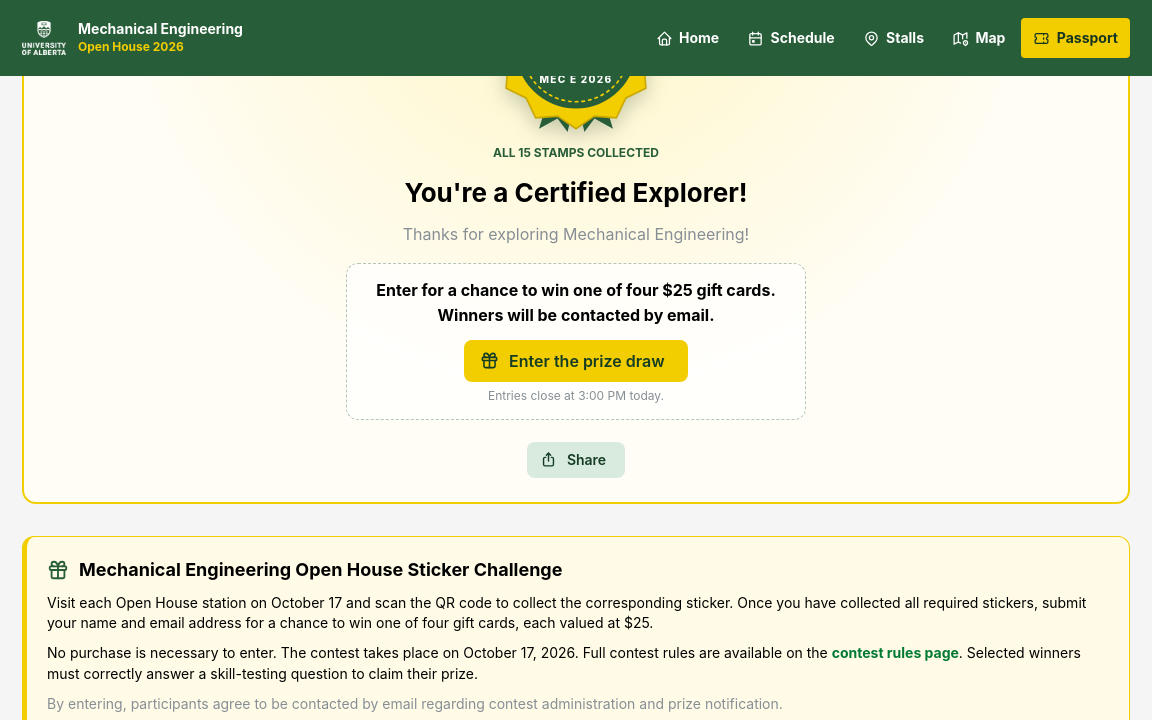
prize draw entry › shows why an entry was refused
(page scrolled)
Click the button "Enter the prize draw" at (576, 361), box x1=464 y1=340 x2=688 y2=382
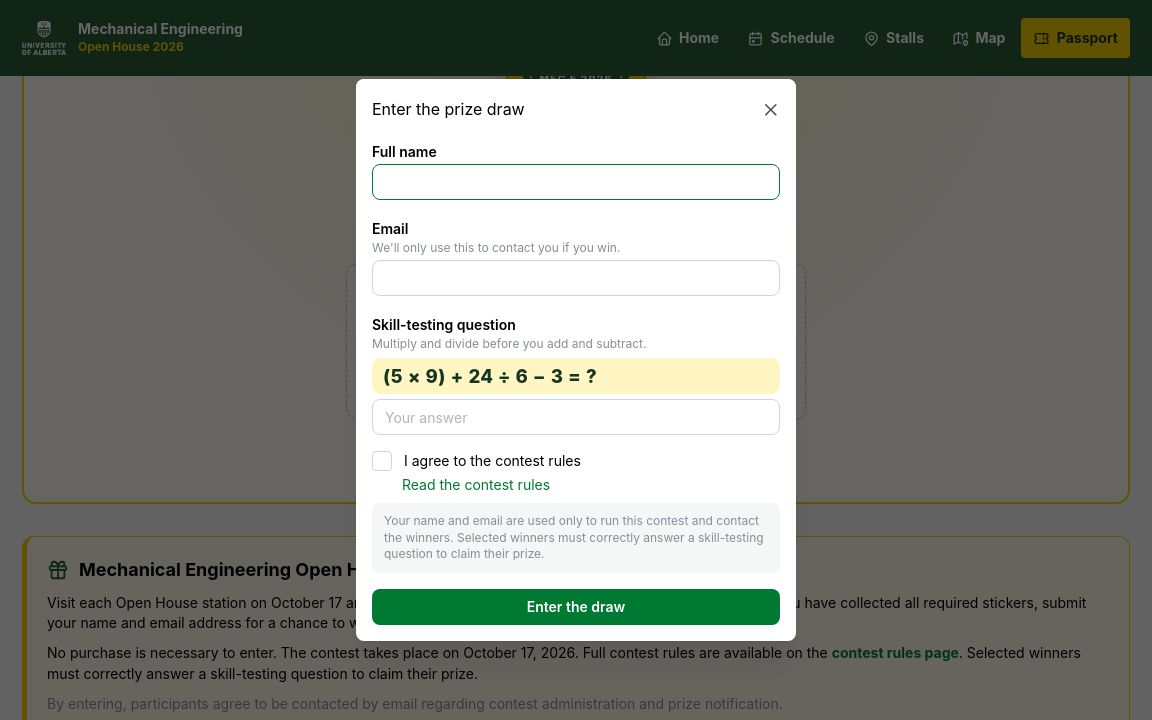
Type "Alex Rivera" into the field labelled "Full name" at (576, 182), box x1=372 y1=164 x2=780 y2=200
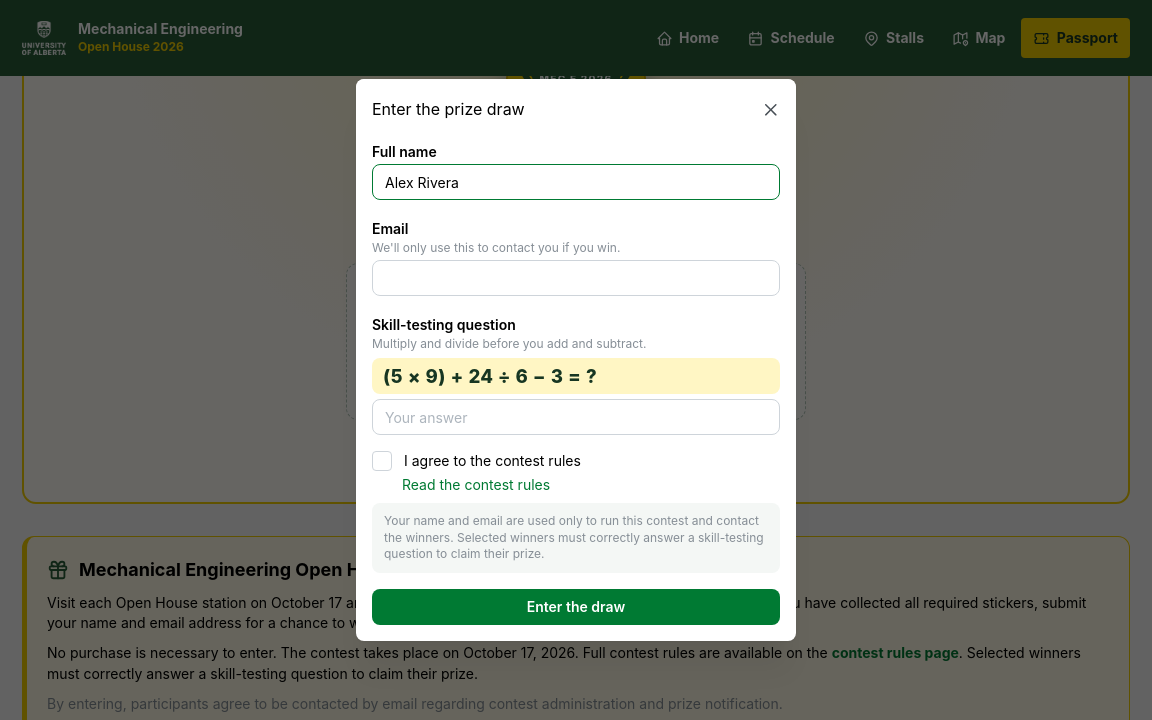
Type "alex@example.com" into the field labelled "Email" at (576, 278), box x1=372 y1=260 x2=780 y2=296
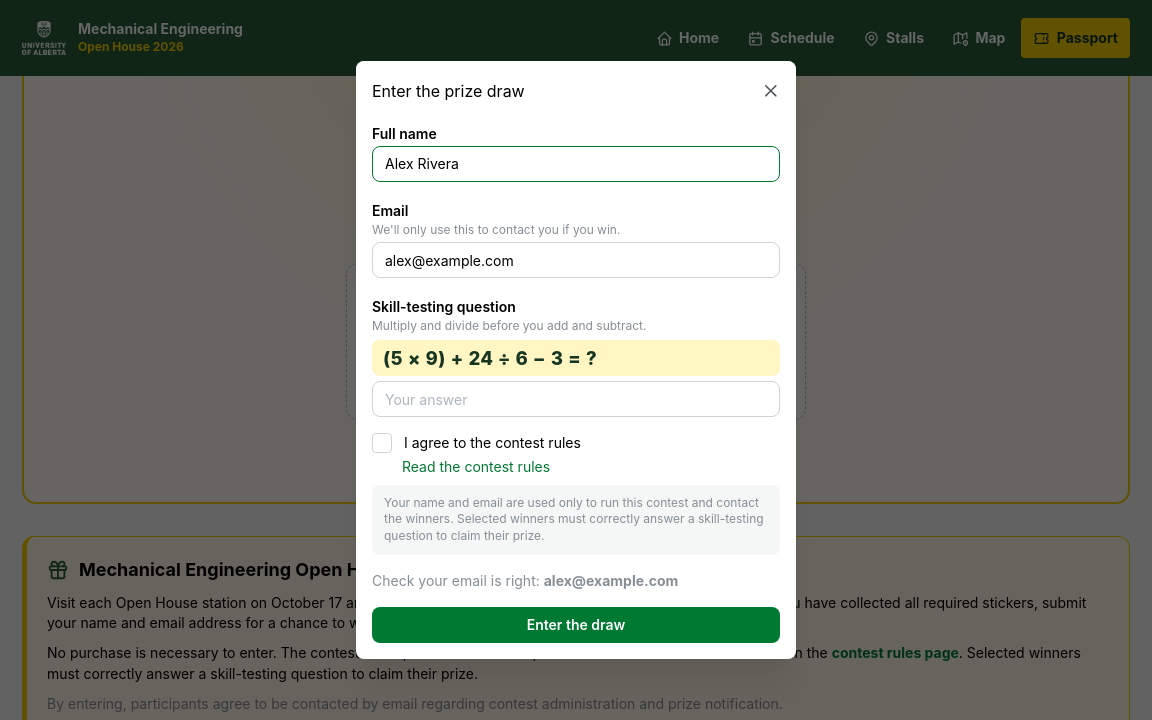
Type "46" into the field labelled "Skill-testing question" at (576, 399), box x1=372 y1=381 x2=780 y2=417
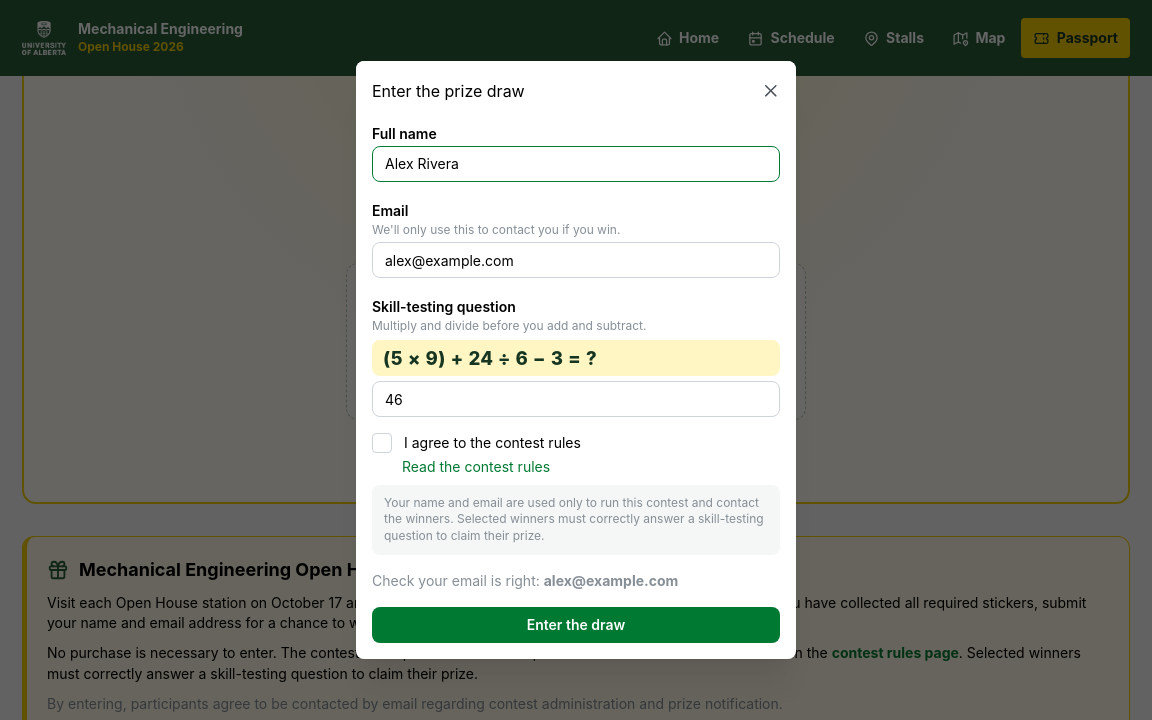
Click the checkbox labelled "I agree to the contest rules" at (382, 443), box x1=372 y1=433 x2=392 y2=453
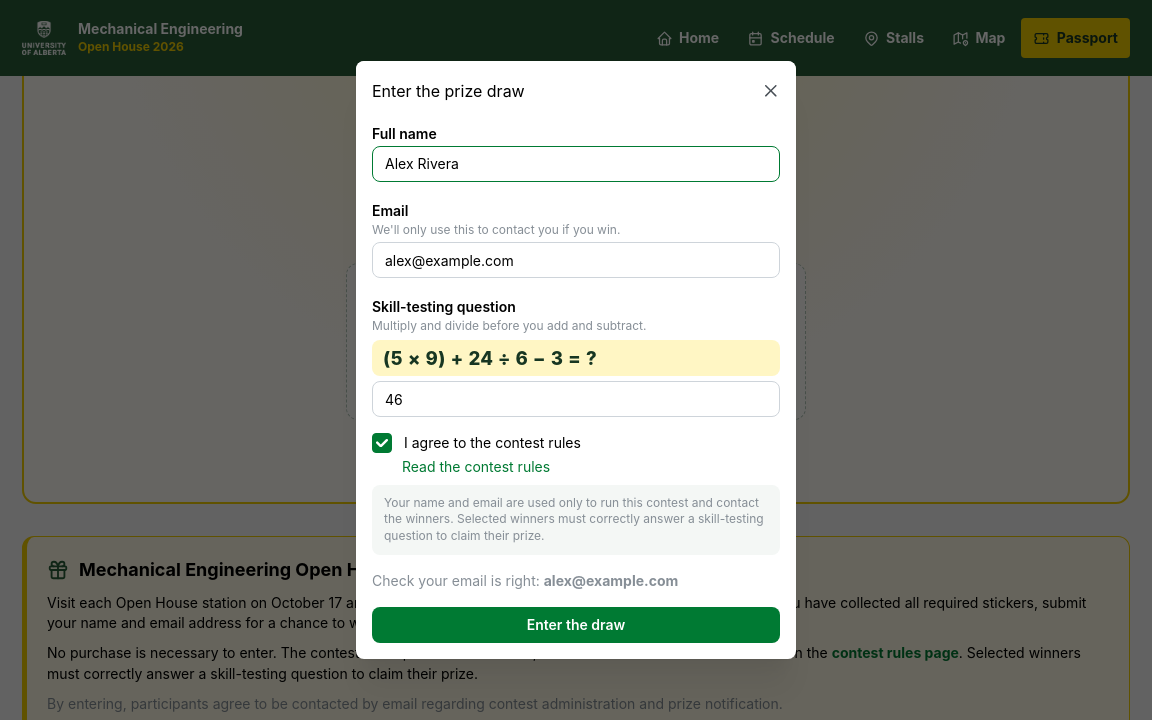
Click the button "Enter the draw" at (576, 625), box x1=372 y1=607 x2=780 y2=643
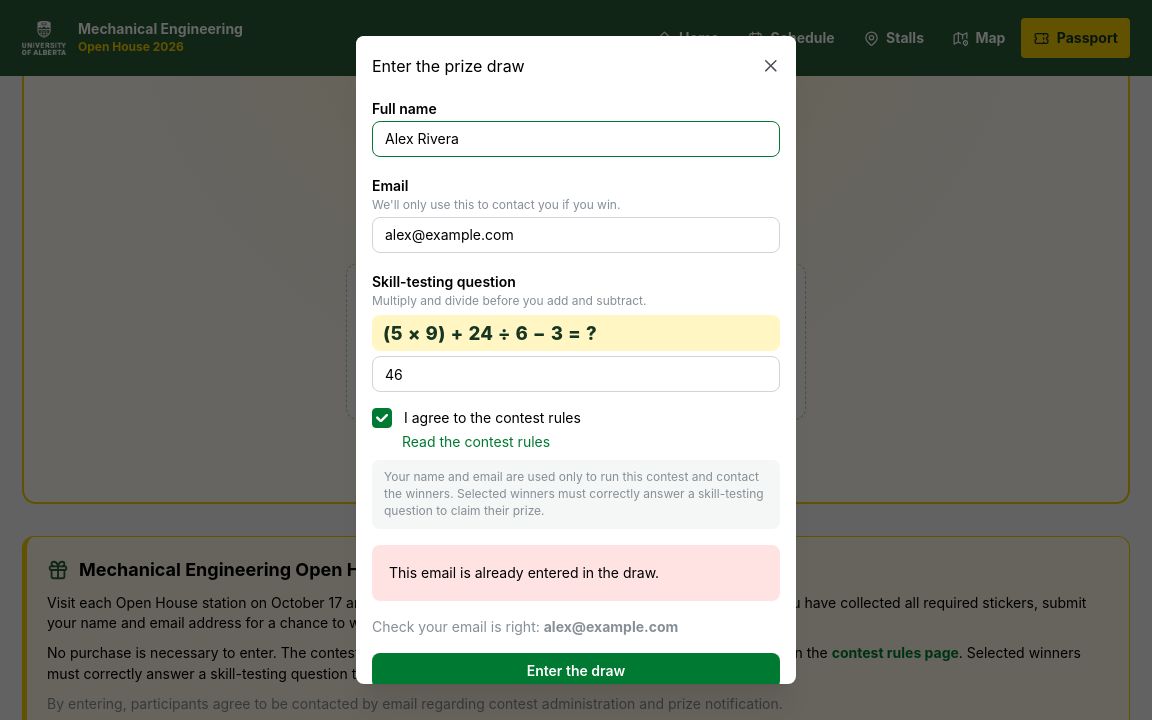
Now the text "This email is already entered in the draw." is shown, box x1=389 y1=564 x2=659 y2=581
